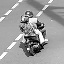motor: (18, 11, 48, 55)
